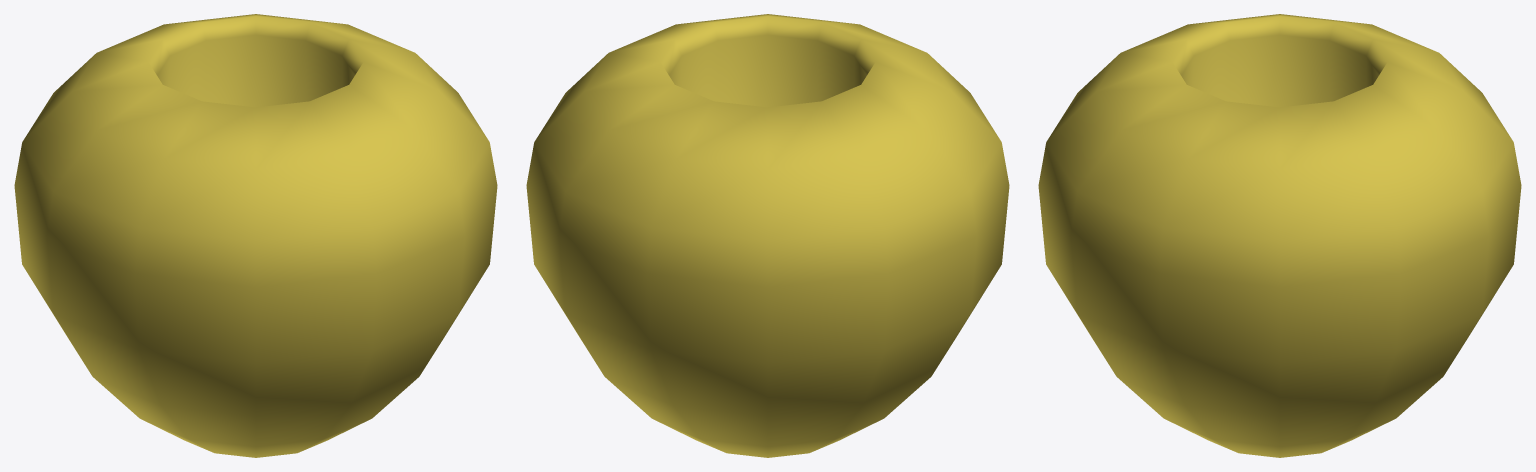
The model's file is vase-03.fbx.
3 renders of one model, left to right at view 1: azimuth 30°, elevation 25°; view 2: azimuth 150°, elevation 25°; view 3: azimuth 270°, elevation 25°, orthographic.
Parts seen in each view (by area): view 1: vase-03; view 2: vase-03; view 3: vase-03.
Boxes of the visible parts, <box> form: vase-03: <box>14,14,497,457</box>; vase-03: <box>526,14,1009,457</box>; vase-03: <box>1038,14,1521,457</box>.
Bounding box in the file's own units: 742 × 612 × 742.
